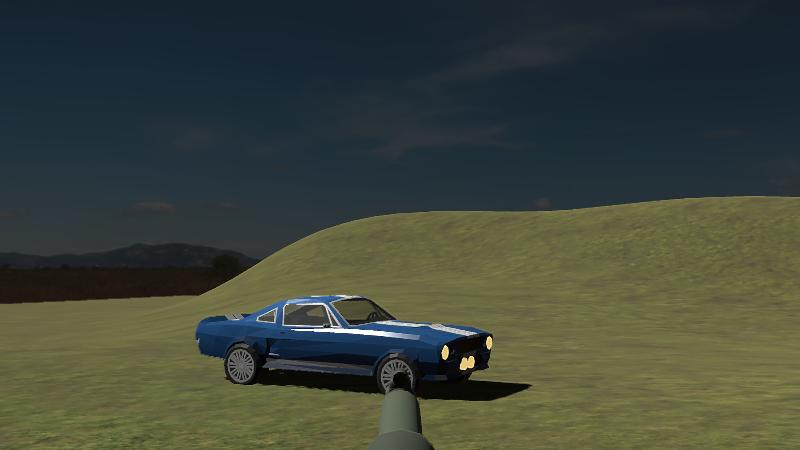car: (195, 293, 495, 396)
